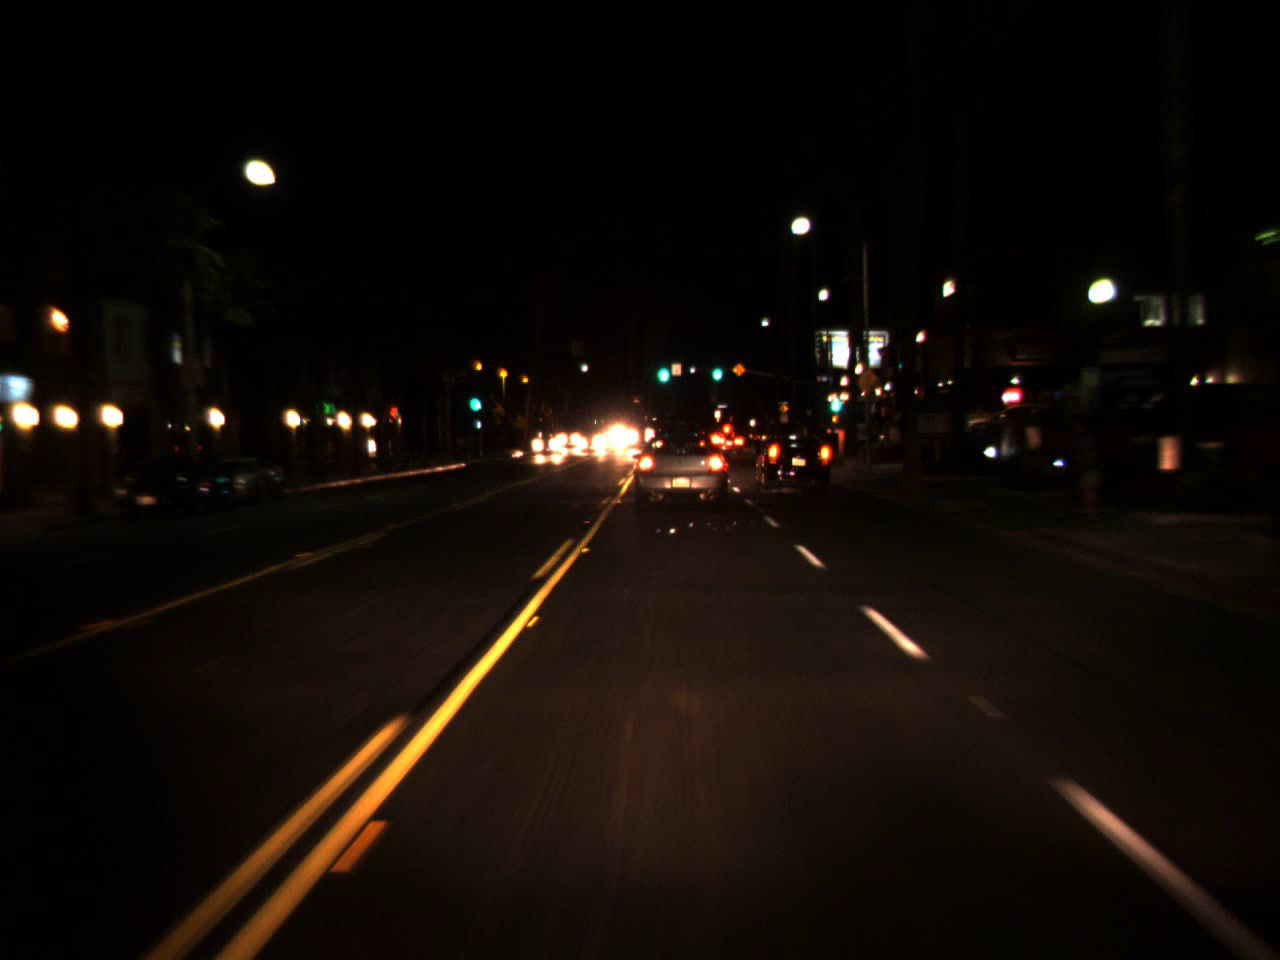go: (652, 349, 671, 388), (824, 383, 845, 416), (465, 382, 481, 415), (710, 361, 724, 379)
